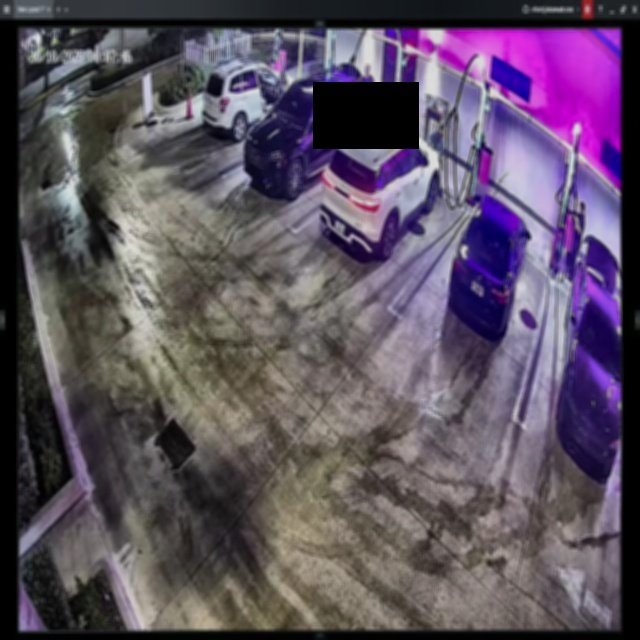Car: (320, 117, 440, 260), (243, 68, 367, 201), (450, 194, 529, 338)
